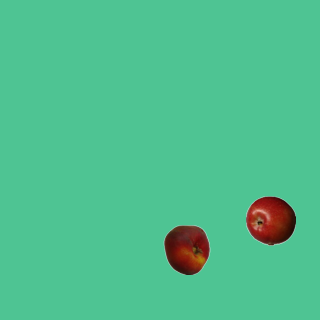Apple Braeburn: (245, 195, 295, 245)
Nectarine Flat: (161, 224, 211, 274)
